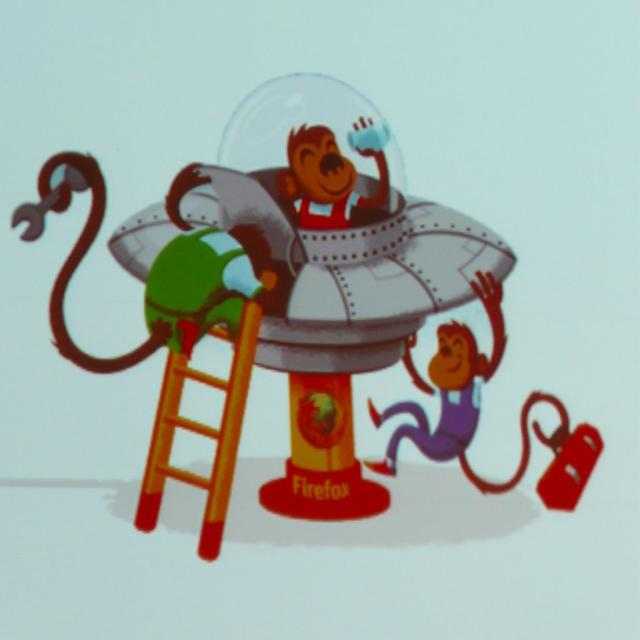Toy: (10, 72, 604, 561)
